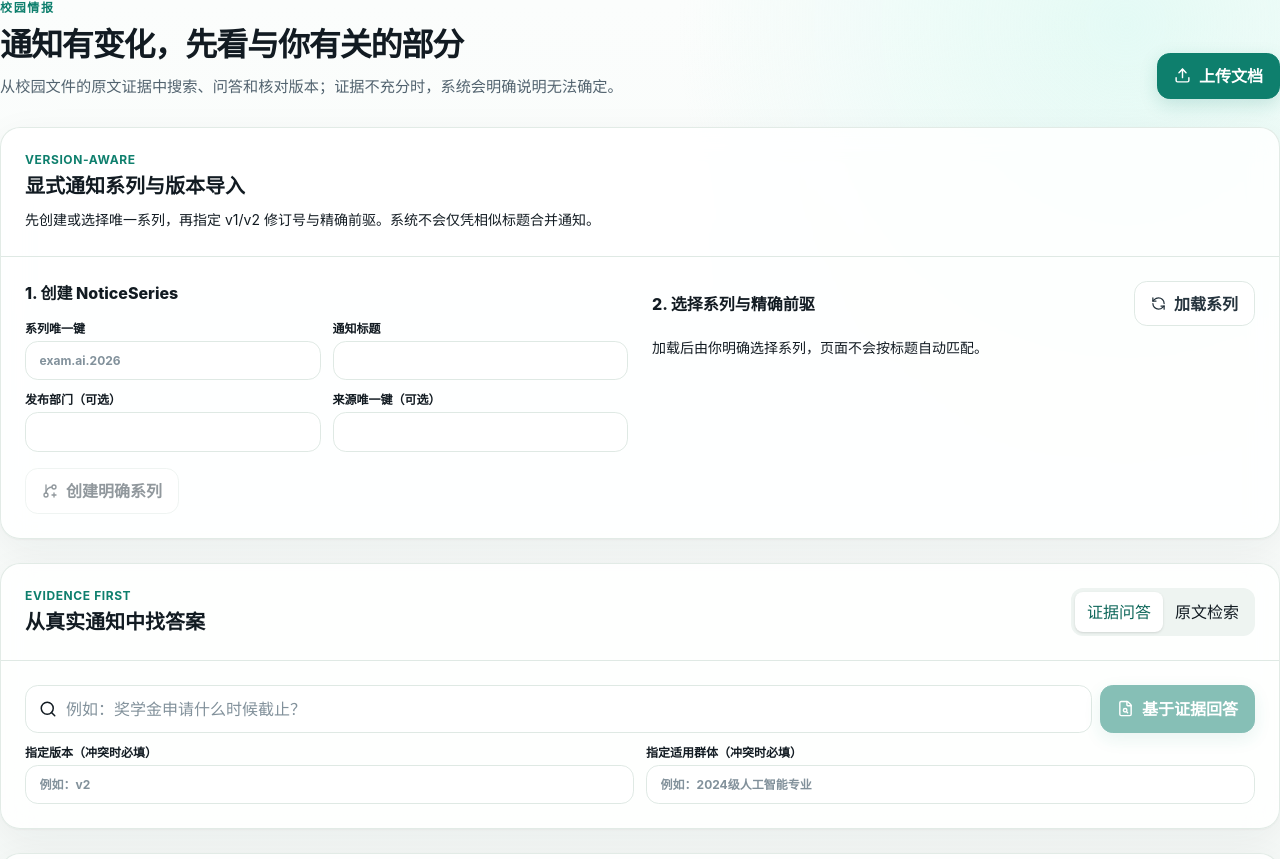
Test: NoticesPage source document handoff › clears an original-text search error after switching modes
Click the tab "原文检索" at (1207, 612), box [1163,592,1251,632]
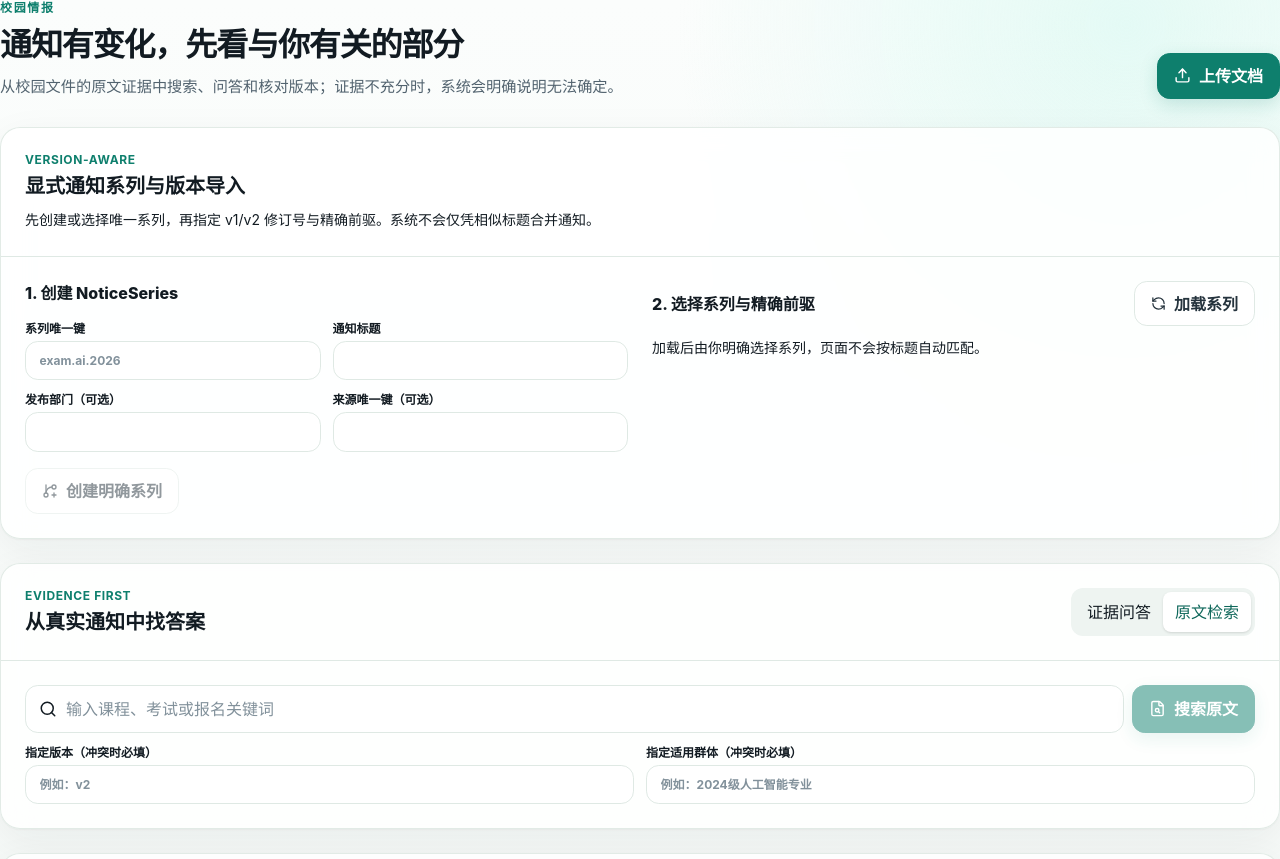
Type "失败的检索" into the field named "输入检索关键词" at (574, 709), box [25,685,1124,733]
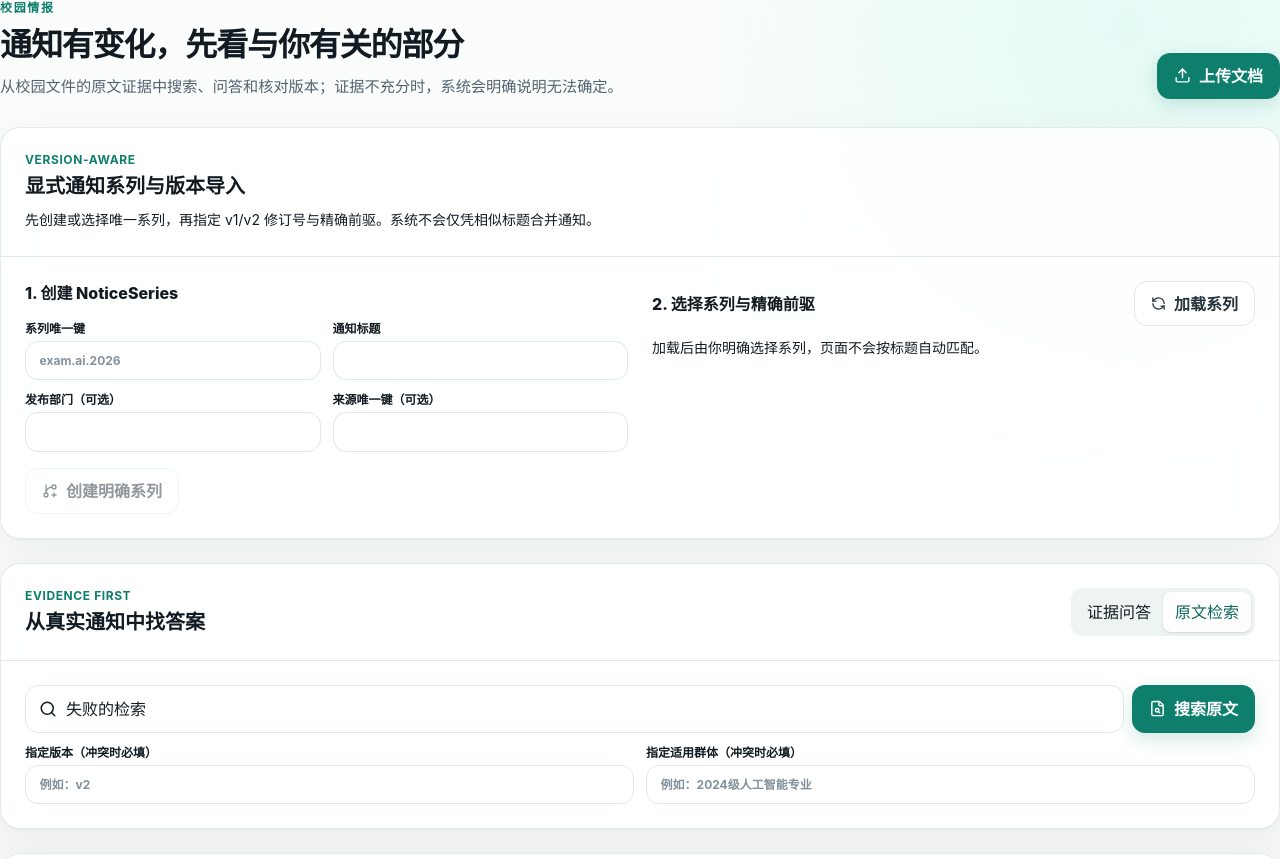
Click the button "搜索原文" at (1194, 709), box [1132,685,1255,733]
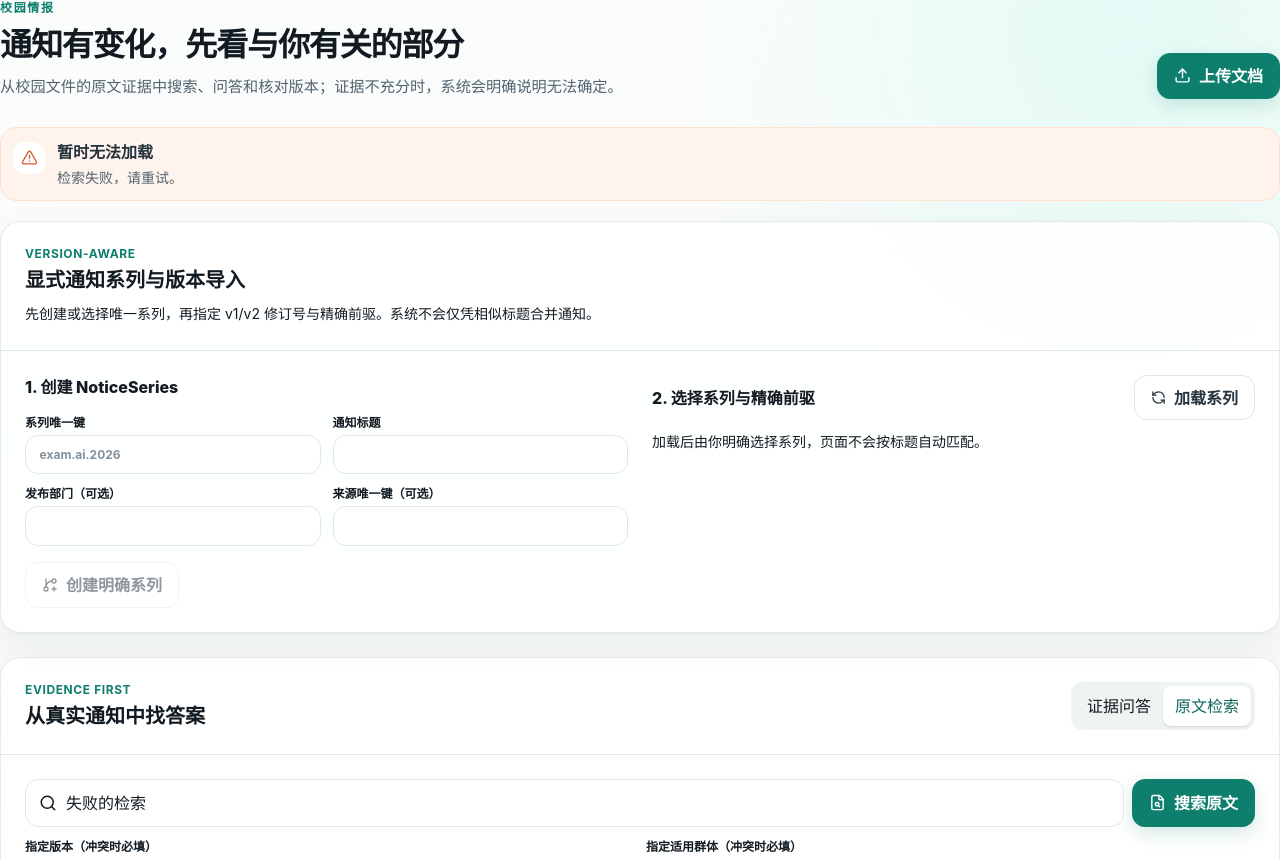
Now the text "检索失败，请重试。" is shown, box [57,169,183,186]
Click the tab "证据问答" at (1119, 706), box [1075,686,1163,726]
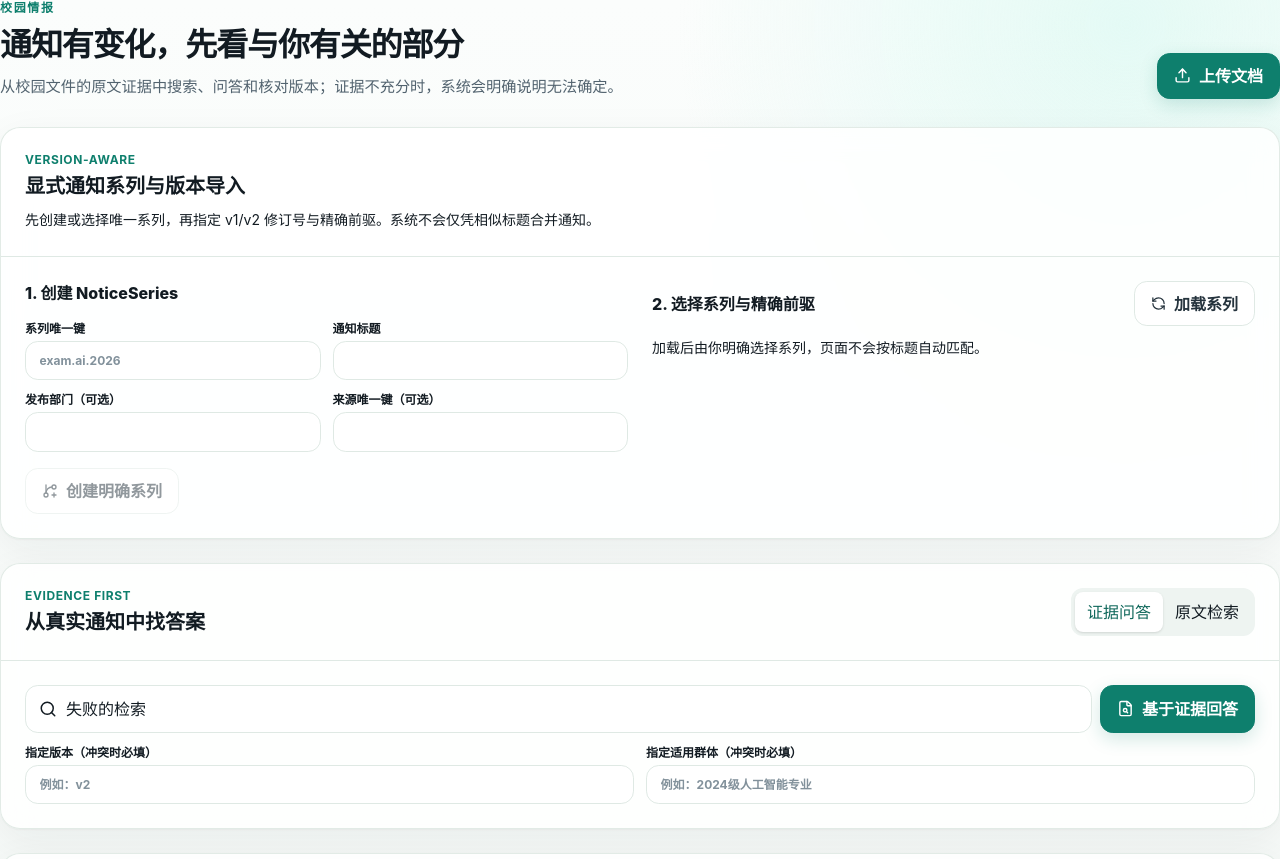
Now the text "检索失败，请重试。" is gone
